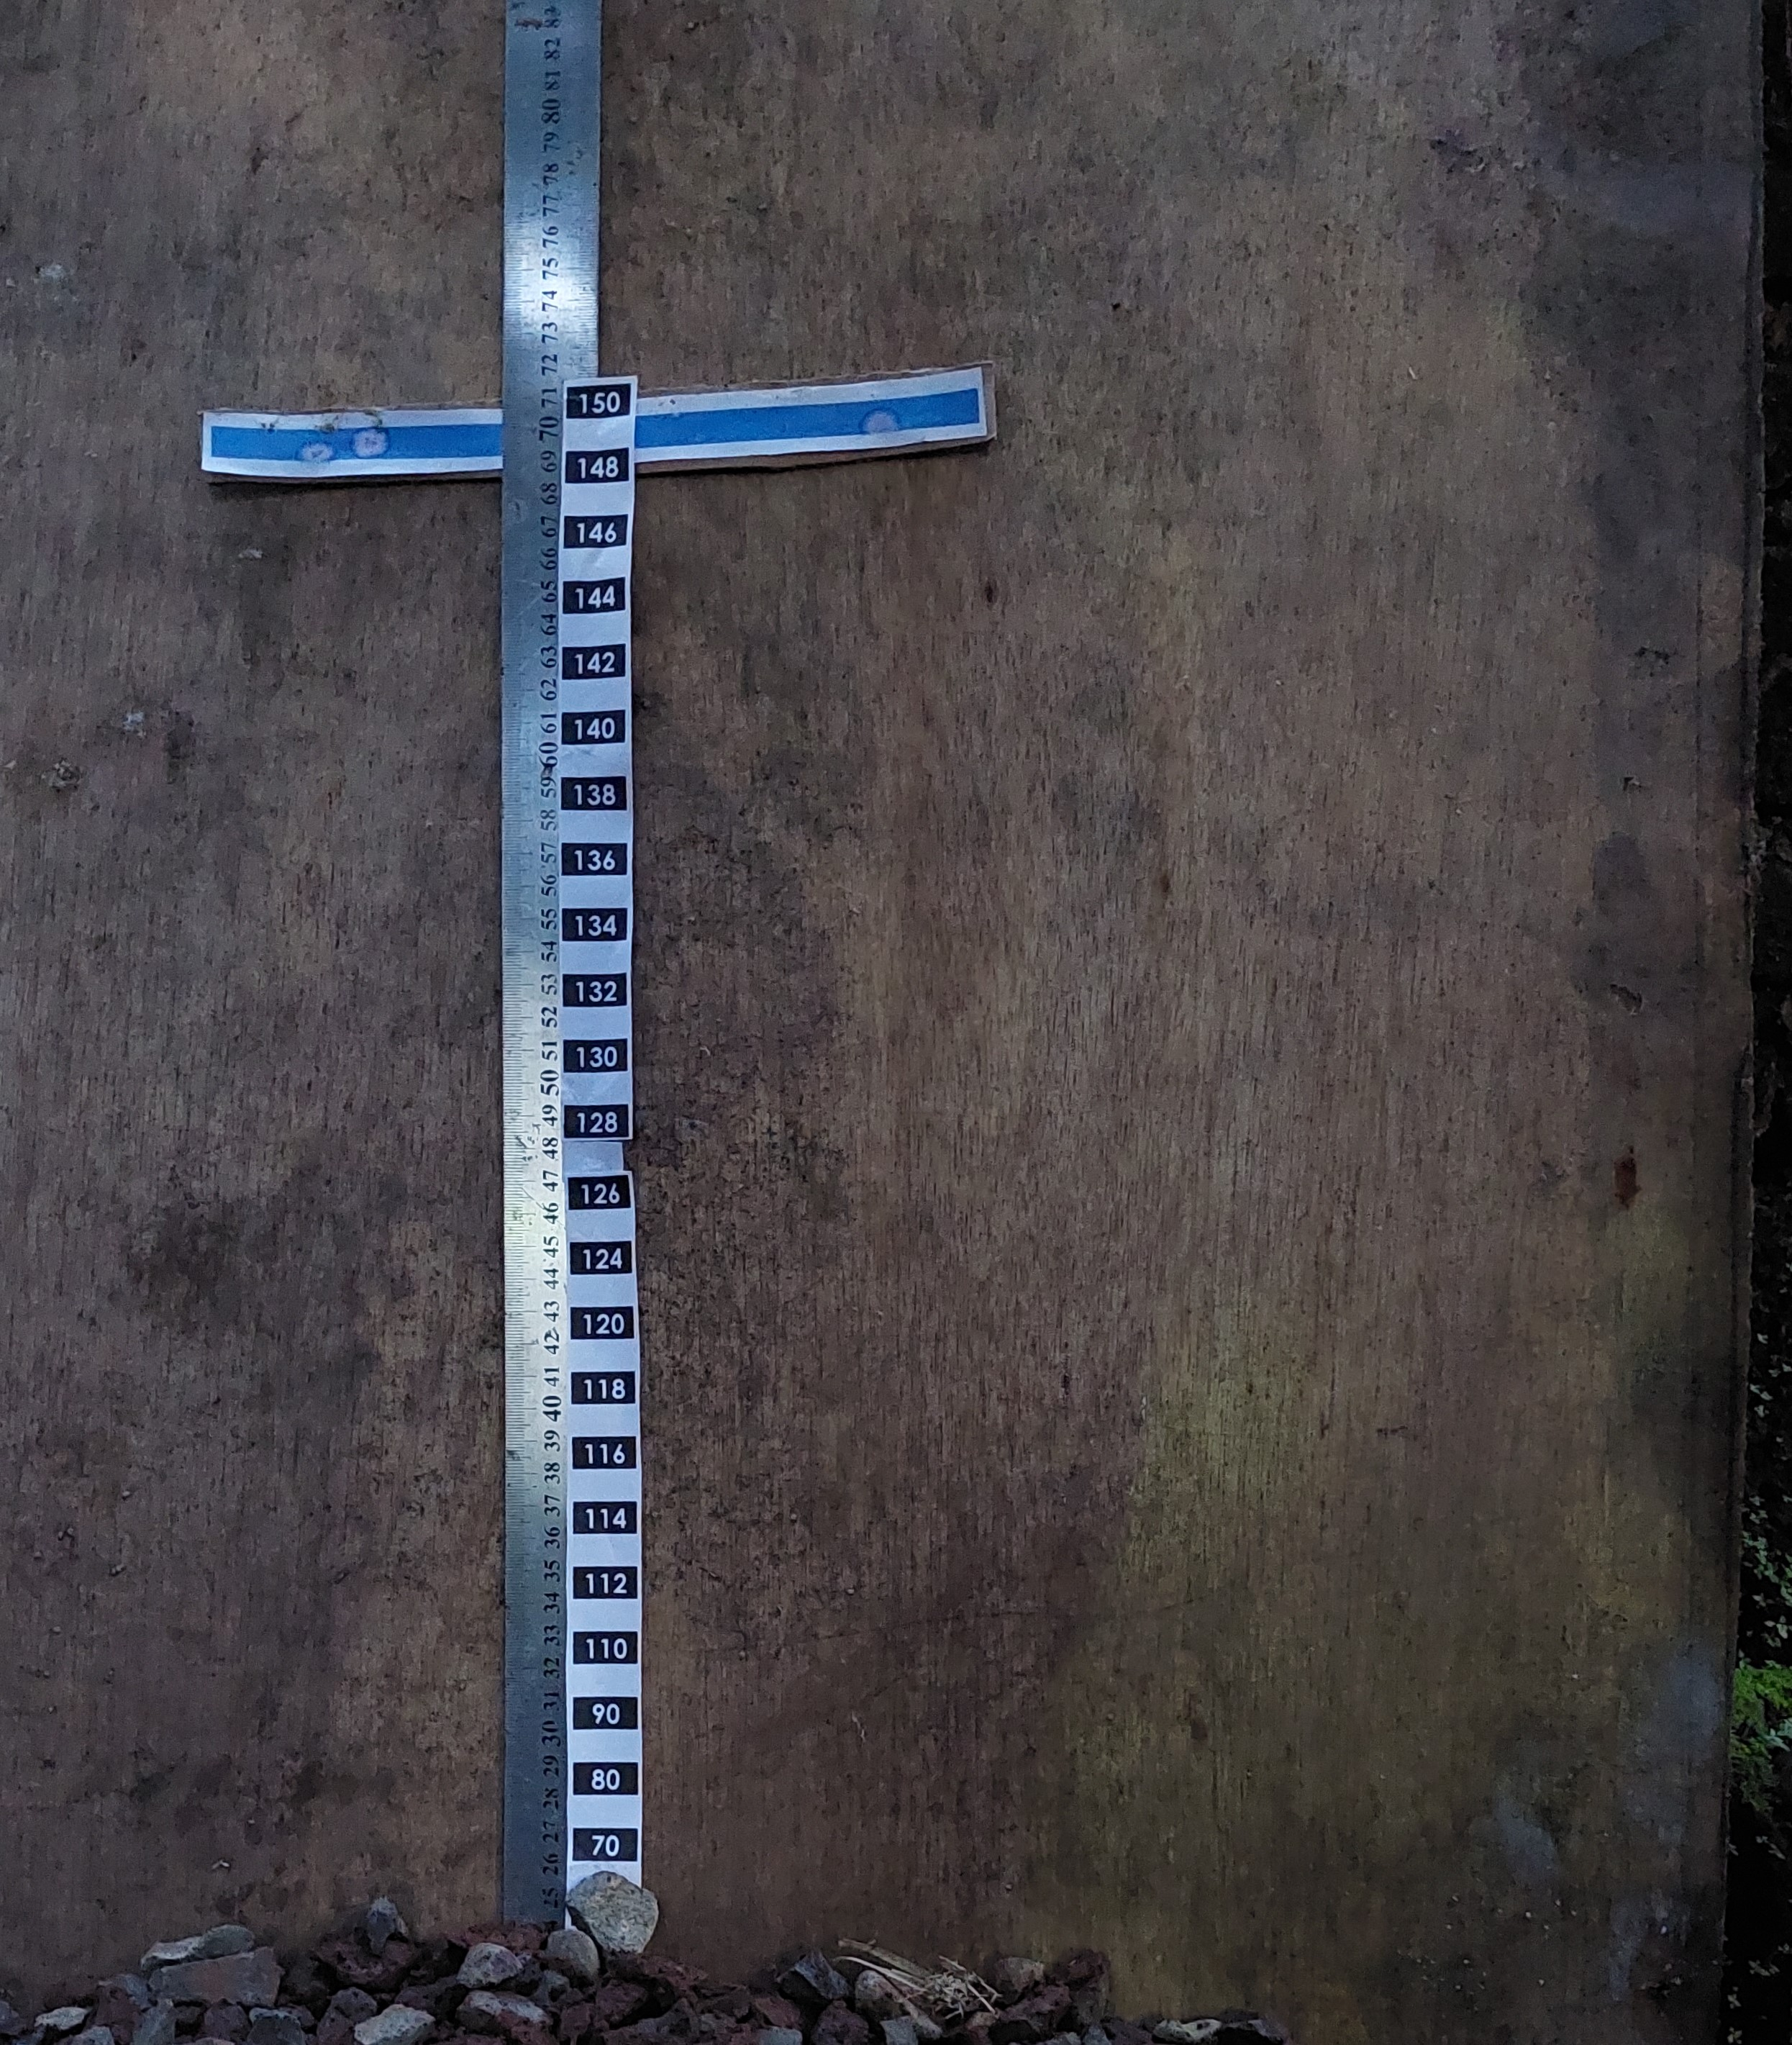kotak_2x1: (558, 836, 634, 882), (558, 901, 631, 948), (556, 572, 631, 617), (568, 1622, 640, 1669), (558, 706, 631, 751), (567, 1692, 641, 1735), (561, 1033, 633, 1078), (563, 1170, 634, 1216), (567, 1301, 638, 1346), (568, 1365, 640, 1410), (568, 1431, 640, 1476), (560, 770, 633, 814), (561, 1097, 634, 1141), (570, 1562, 643, 1605), (570, 1758, 643, 1802), (563, 379, 634, 423), (561, 445, 634, 487), (560, 511, 633, 553), (561, 970, 631, 1014), (570, 1497, 640, 1541), (567, 1235, 634, 1278), (570, 1824, 640, 1866), (556, 643, 631, 682)
mal_biru_150: (202, 367, 986, 470)
